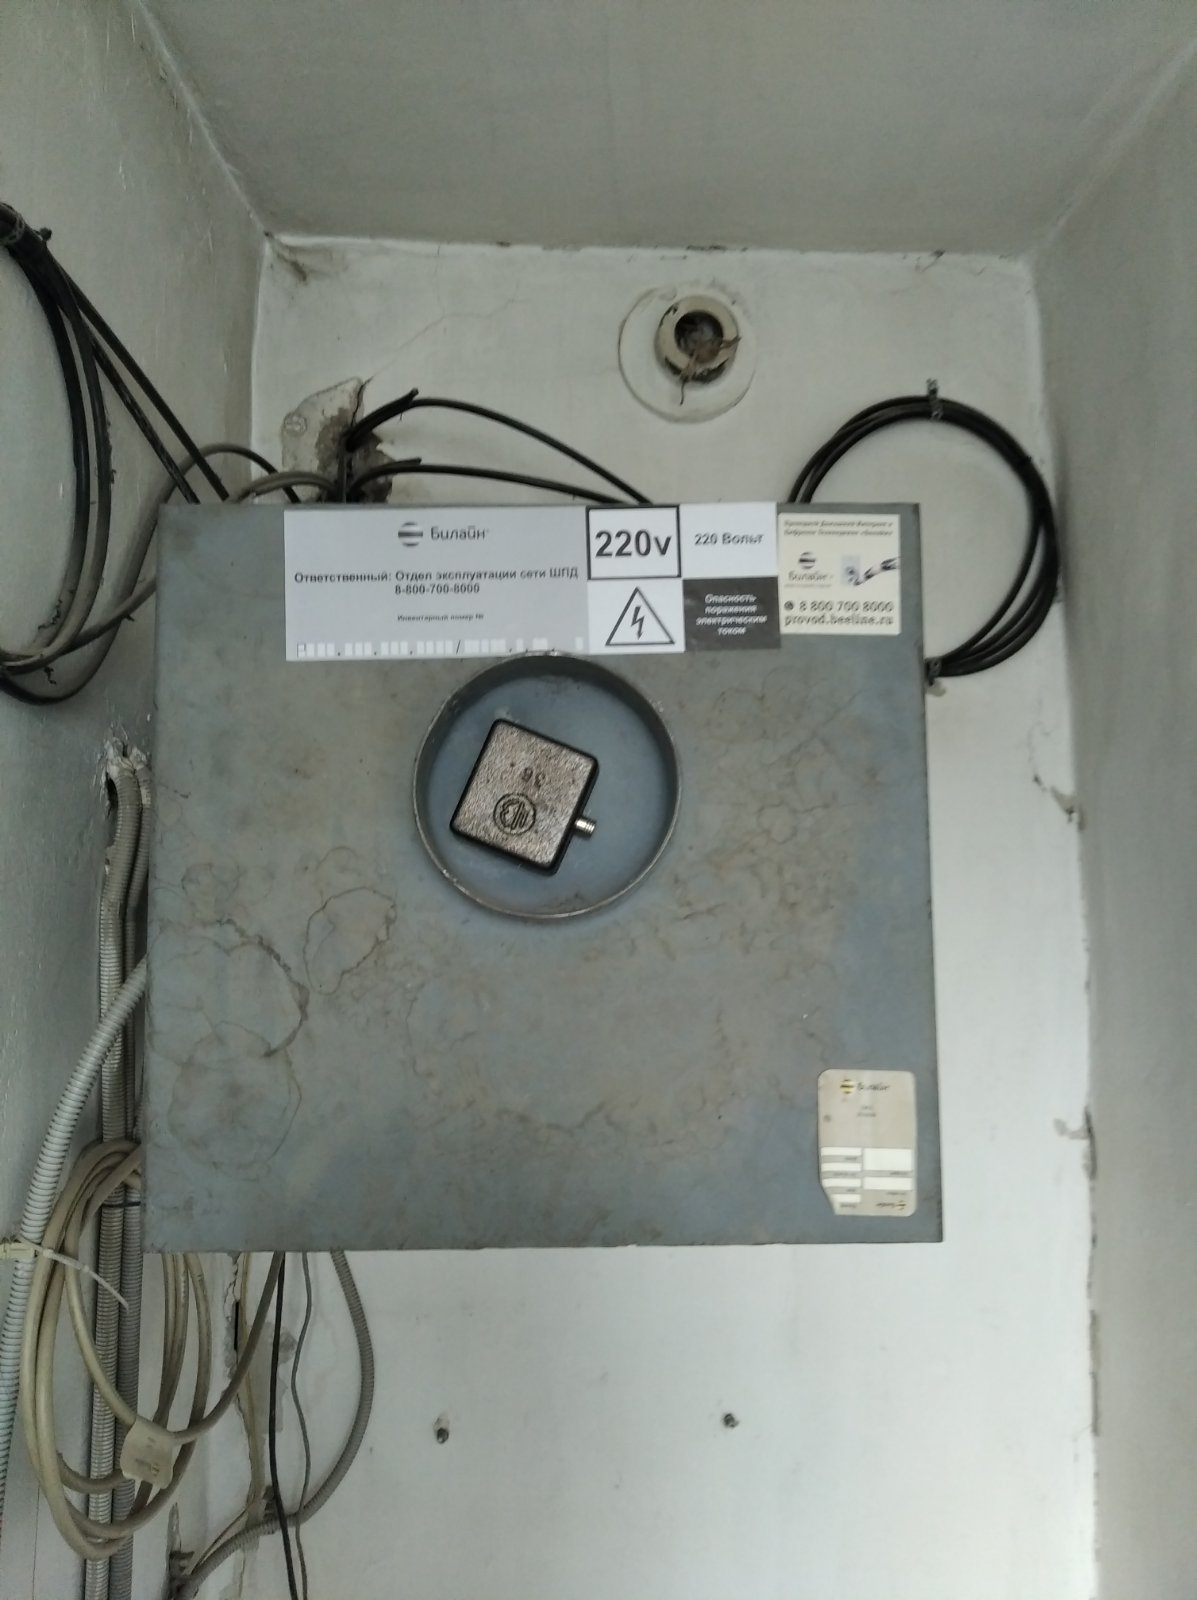shta-9: (126, 469, 963, 1266)
